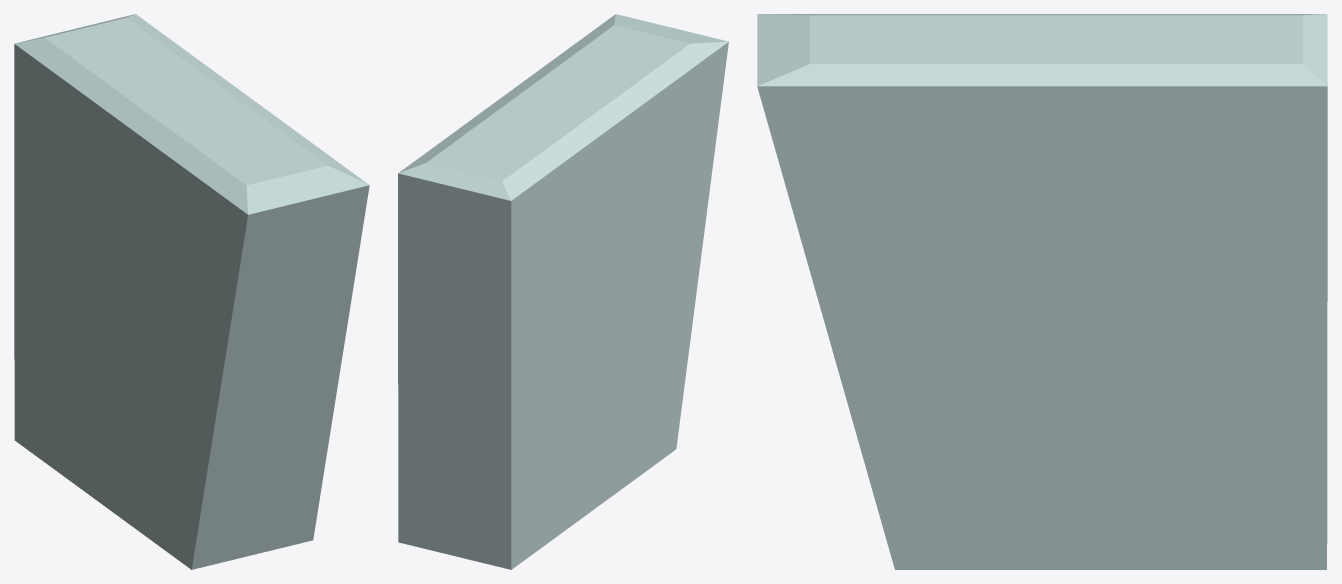
The model's file is Side_Icetile_Thin_01.fbx.
3 renders of one model, left to right at view 1: azimuth 30°, elevation 25°; view 2: azimuth 150°, elevation 25°; view 3: azimuth 270°, elevation 25°, orthographic. The views are drawn at different scales.
Parts seen in each view (by area): view 1: Side_Icetile_Thin_01; view 2: Side_Icetile_Thin_01; view 3: Side_Icetile_Thin_01.
Boxes of the visible parts, x1,y1,x2,y2 form: Side_Icetile_Thin_01: [14, 14, 369, 569]; Side_Icetile_Thin_01: [398, 14, 728, 569]; Side_Icetile_Thin_01: [757, 14, 1327, 569].
Size of the model in its own units: 0.9 by 2.87 by 3.
